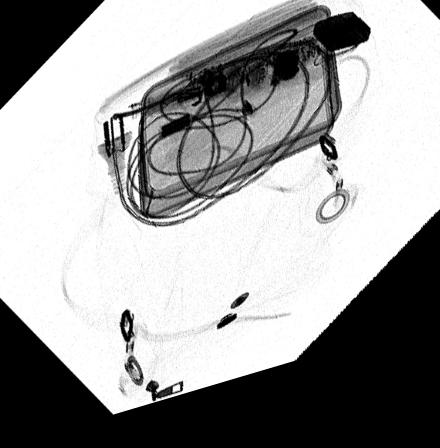Lighter: (311, 30, 372, 73)
